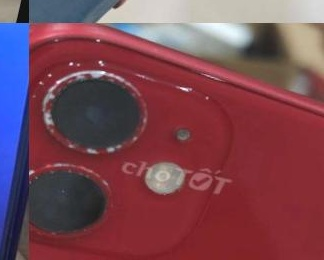scratch: (29, 27, 229, 258)
